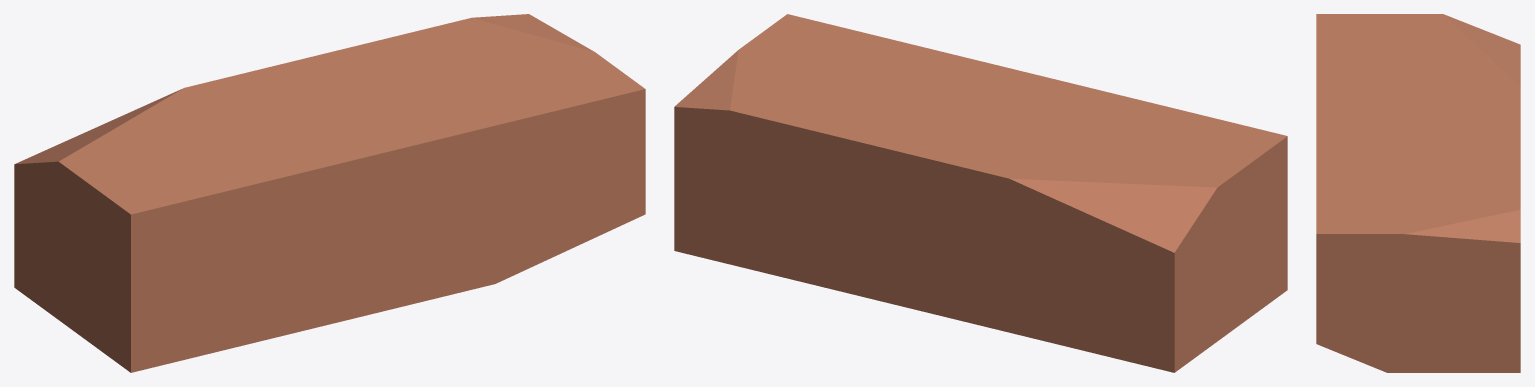
File: Brick_04.fbx
The picture shows the model from 3 angles, left to right: view 1: azimuth 30°, elevation 25°; view 2: azimuth 150°, elevation 25°; view 3: azimuth 270°, elevation 25°; orthographic projection. The views are drawn at different scales.
Visible parts, largest first — view 1: Brick_04; view 2: Brick_04; view 3: Brick_04.
Boxes of the visible parts, <box> form: Brick_04: <box>14,14,645,372</box>; Brick_04: <box>674,14,1287,372</box>; Brick_04: <box>1316,14,1520,372</box>.
Bounding box in the file's own units: 25.5 × 7.5 × 10.
